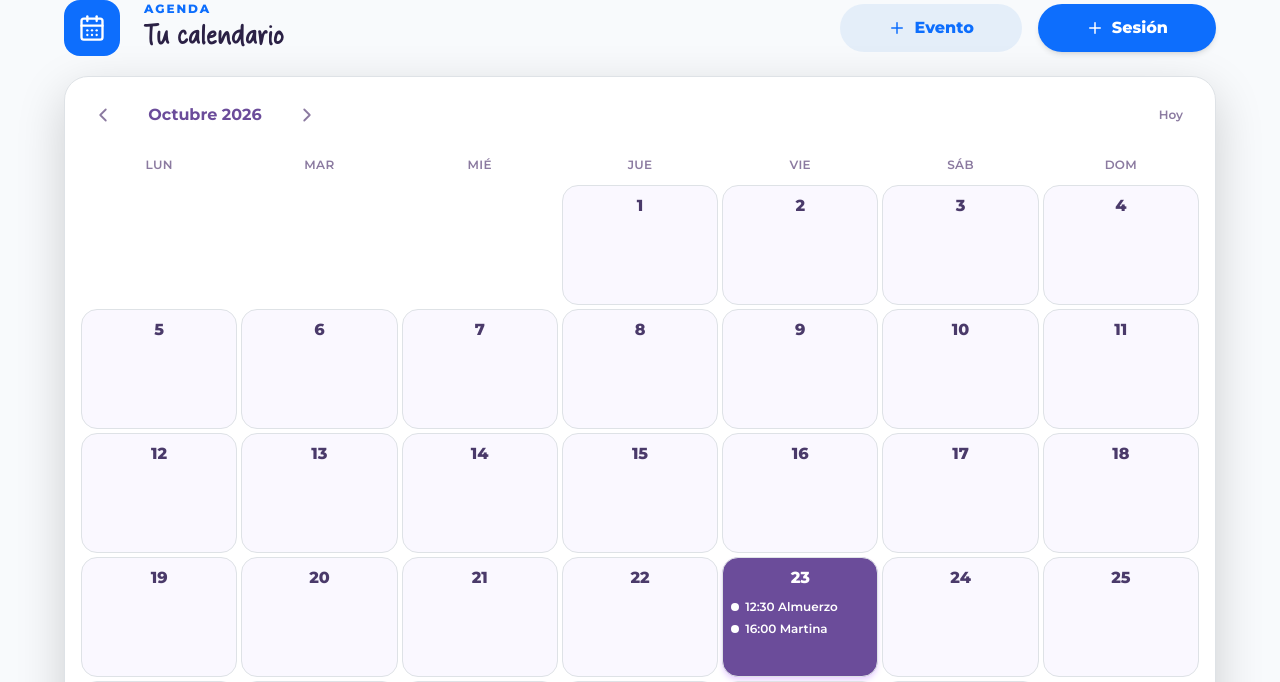
Test case: ProfessionalCalendar › el menú ⋯ de una sesión de serie ofrece gestionar la serie
The width and height of the screenshot is (1280, 682).
Click the button with aria-label "2 elementos": point(800, 617) top-left (722, 557), bottom-right (878, 677)
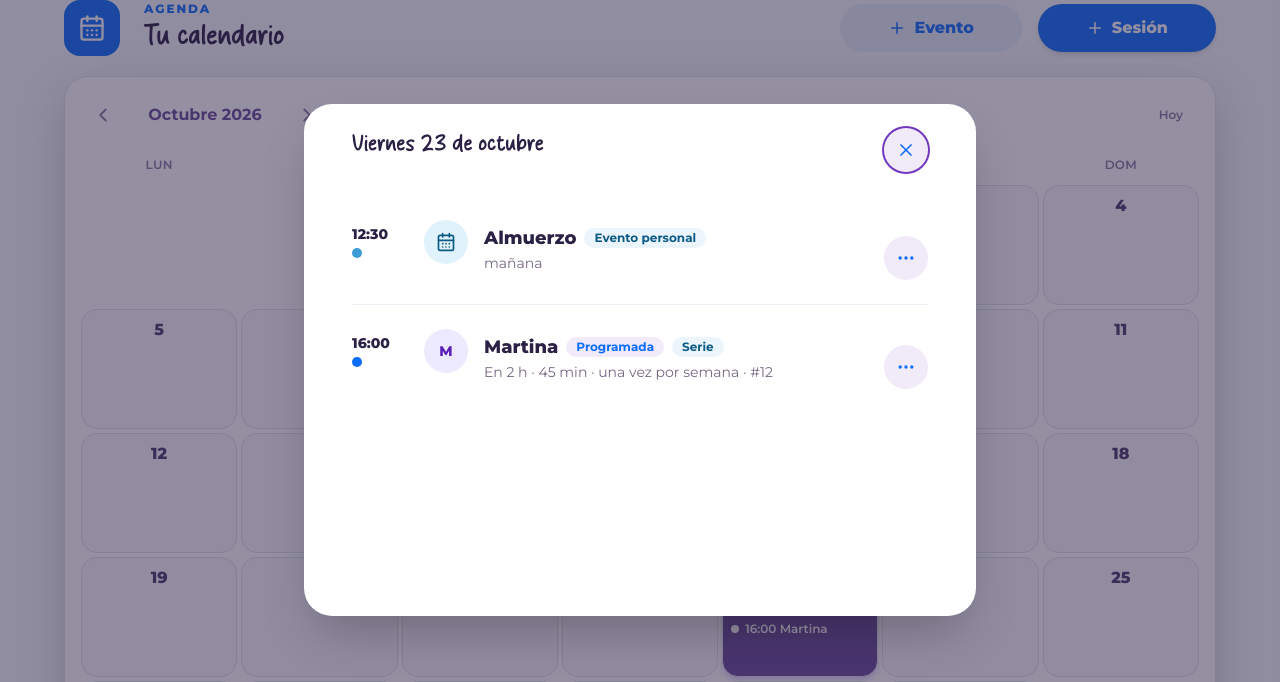
Click the button named "Más acciones de la sesión de Martina": point(906, 367) top-left (884, 345), bottom-right (928, 389)
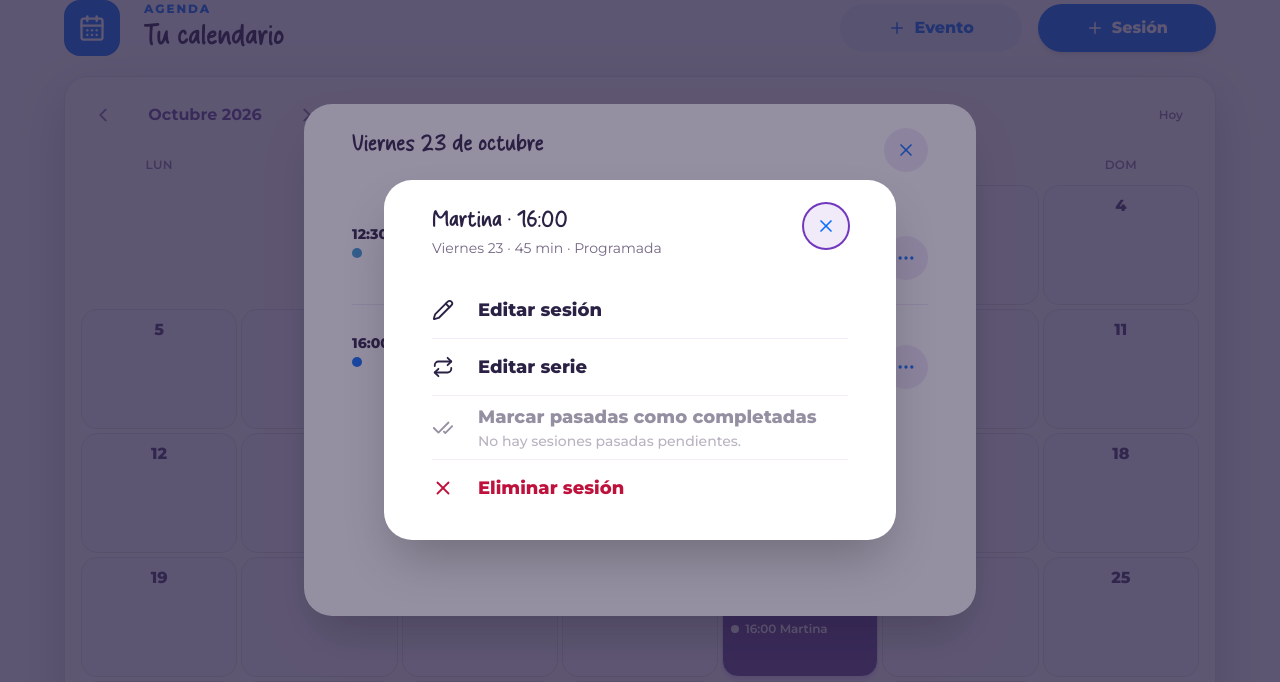
Now the text "Editar sesión" is shown, box top-left (478, 296), bottom-right (602, 324)
Now the text "Editar serie" is shown, box top-left (478, 354), bottom-right (587, 380)
Now the text "Marcar pasadas como completadas" is shown, box top-left (478, 406), bottom-right (816, 428)
